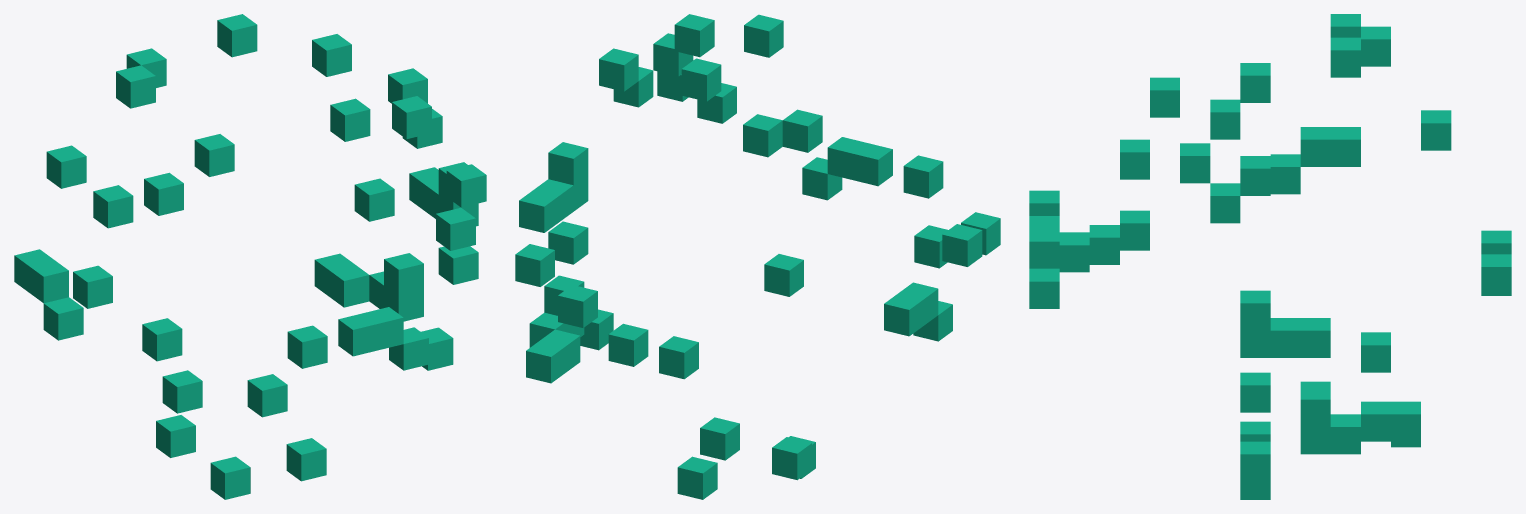
Rendered from luz-16e.obj.
3 renders of one model, left to right at view 1: azimuth 30°, elevation 25°; view 2: azimuth 150°, elevation 25°; view 3: azimuth 270°, elevation 25°, orthographic. The views are drawn at different scales.
Size of the model in its own units: 1.6 by 1.6 by 1.6.
Materials: 1 (1 with a texture image).
